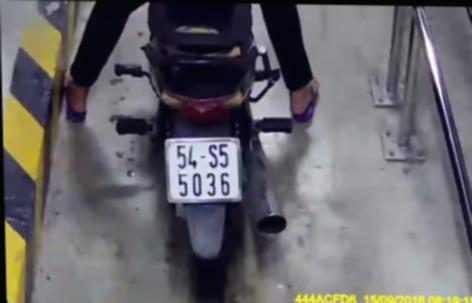License_Plate: (157, 135, 252, 208)
